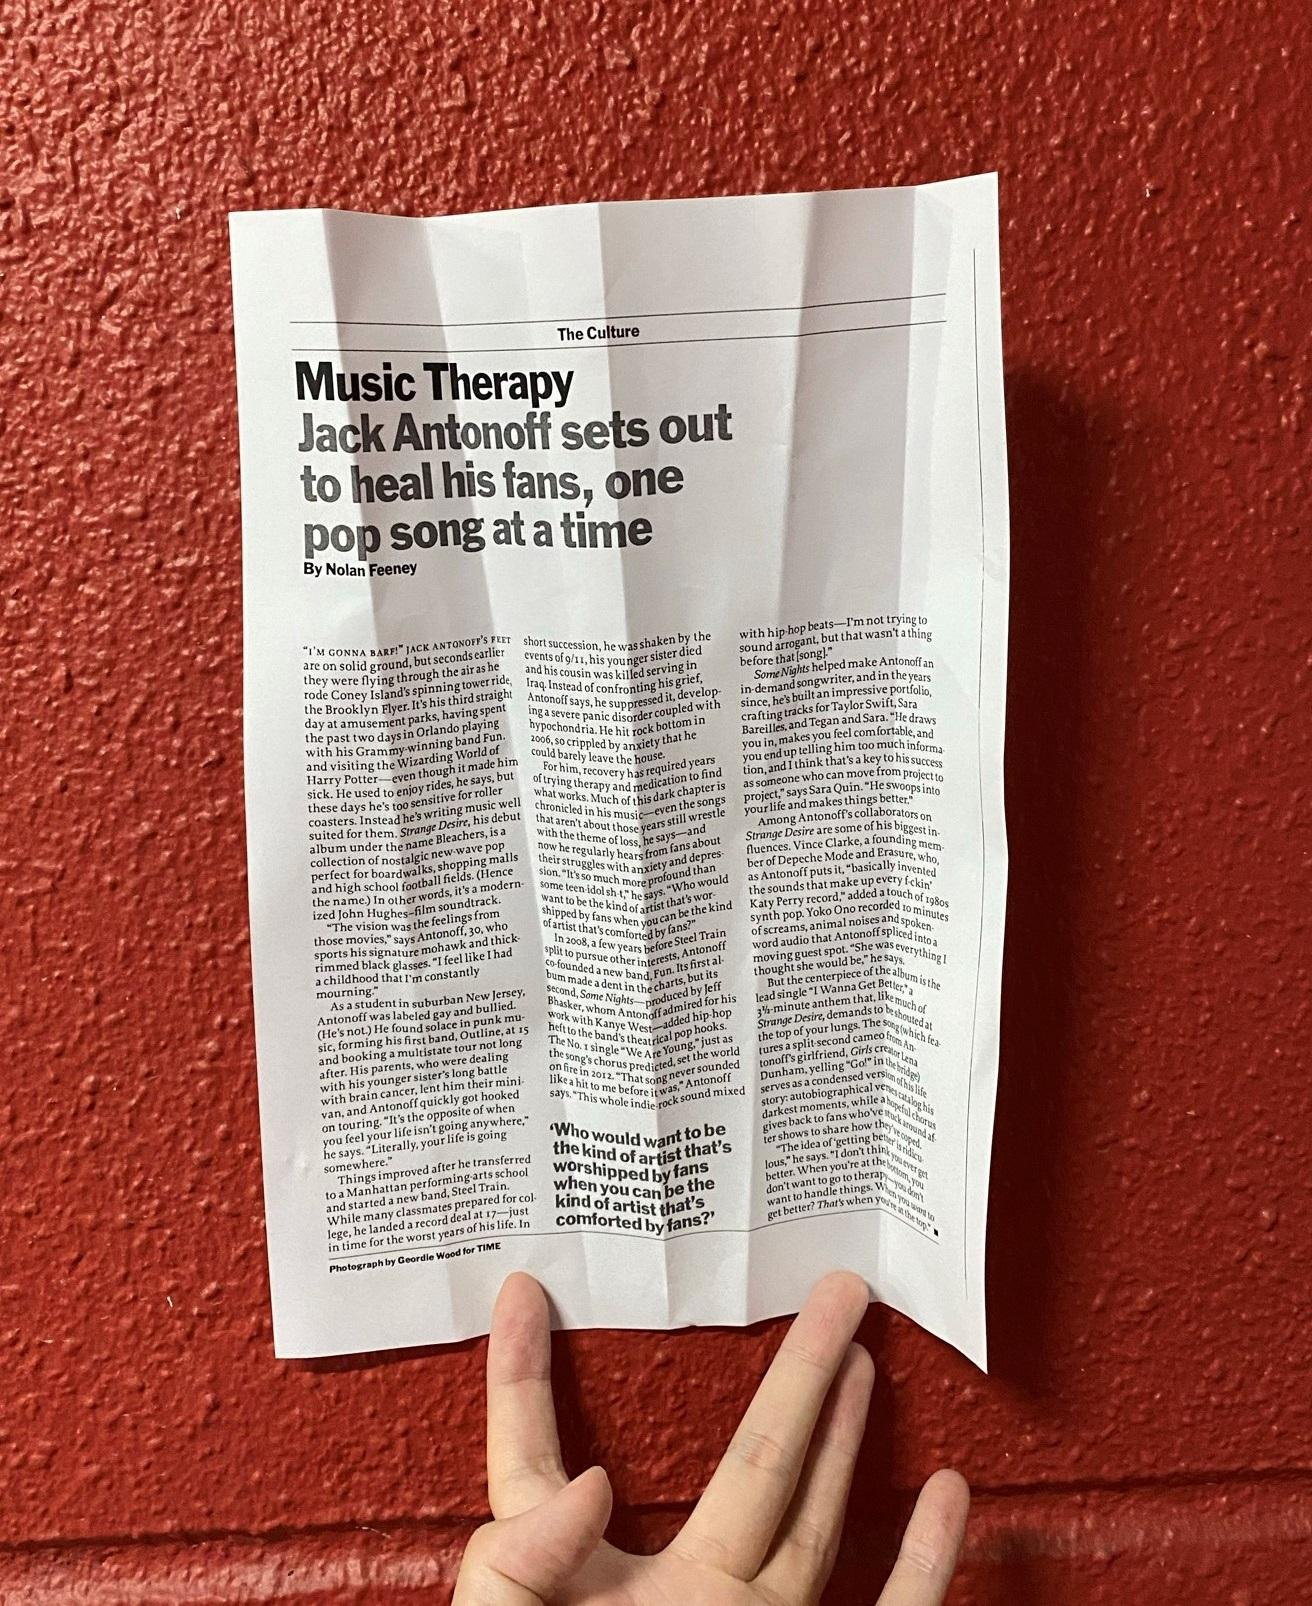paper: (95, 135, 1105, 1437)
